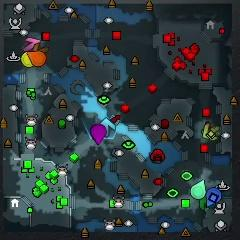p1: (206, 187, 221, 206)
p2: (190, 179, 206, 199)
p3: (90, 124, 106, 145)
p4: (21, 52, 33, 68)
p5: (27, 51, 46, 67)
x1: (24, 37, 40, 52)
x2: (202, 124, 218, 140)
x3: (100, 117, 116, 137)
x4: (199, 196, 208, 211)
x5: (33, 43, 49, 53)
